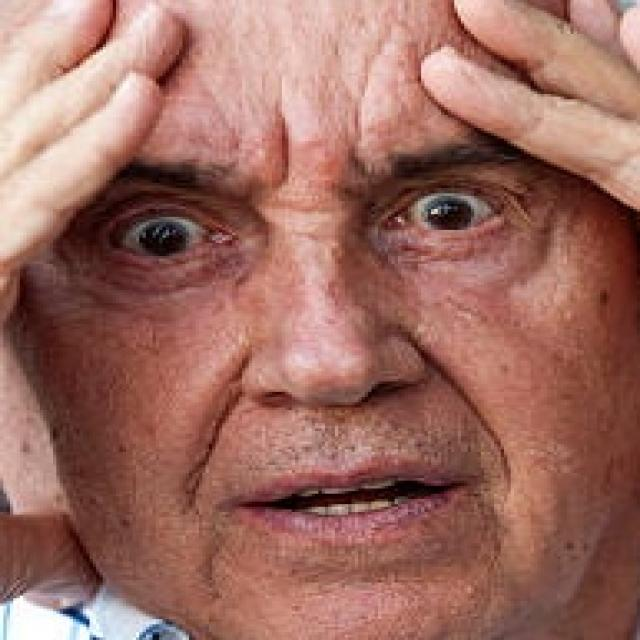Anxiety: (2, 0, 637, 637)
